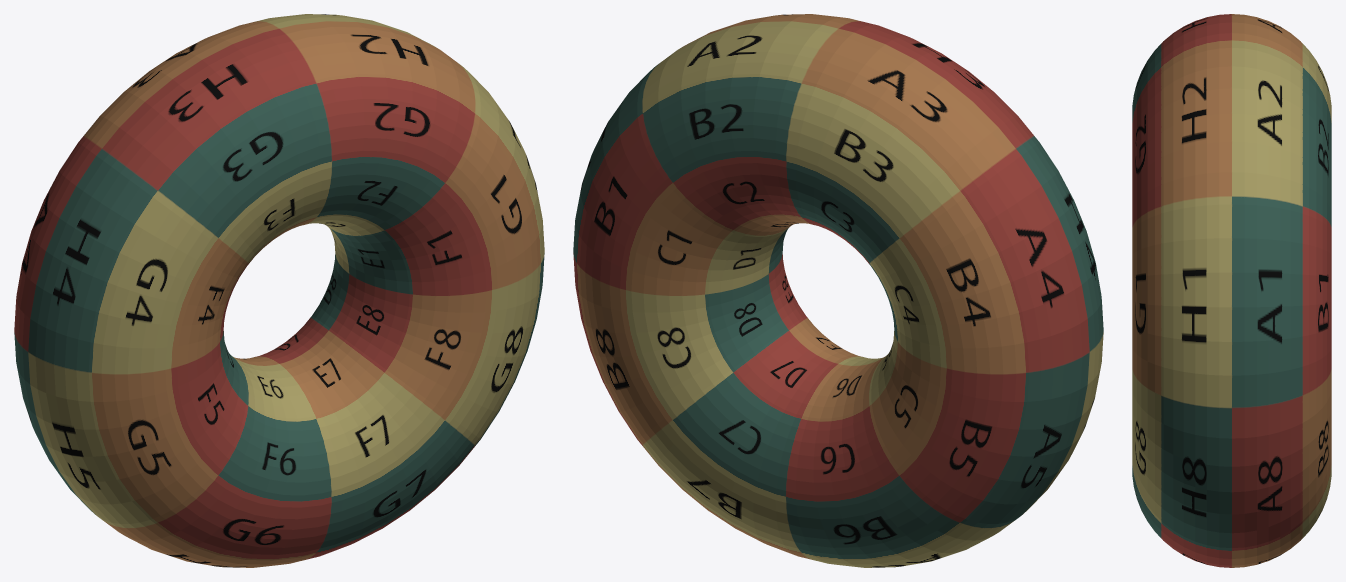
File: texture_torus_R8_r25.glb
3 views of the same model, side by side, from view 1: azimuth 30°, elevation 25°; view 2: azimuth 150°, elevation 25°; view 3: azimuth 270°, elevation 25° (orthographic). The views are drawn at different scales.
Parts seen in each view (by area): view 1: world; view 2: world; view 3: world.
Part boxes in pixels (x1,y1,x2,y2): world: (14,14,544,567); world: (573,14,1103,567); world: (1132,14,1331,567).
Size of the model in its own units: 24 by 23.95 by 8.65.
1 material, 1 textured.
